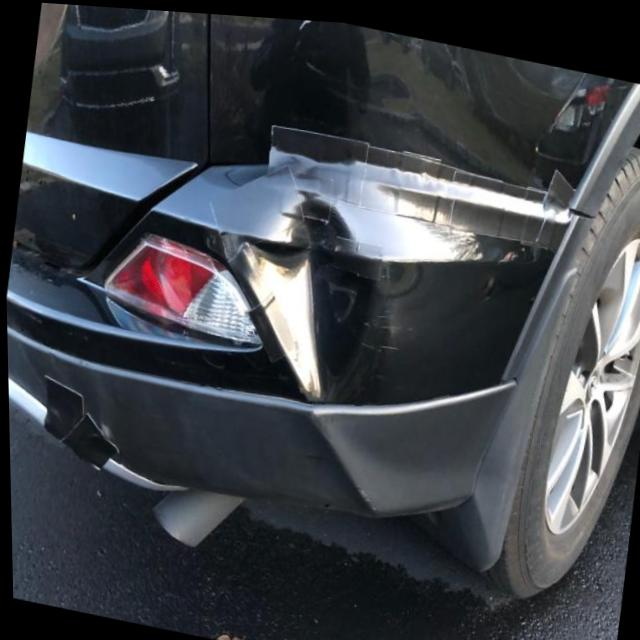Dent: (228, 173, 401, 410)
